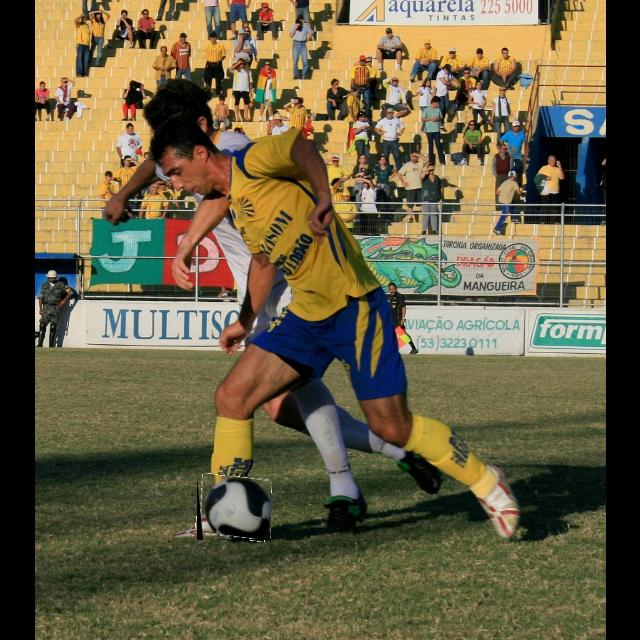Football: (197, 476, 271, 540)
